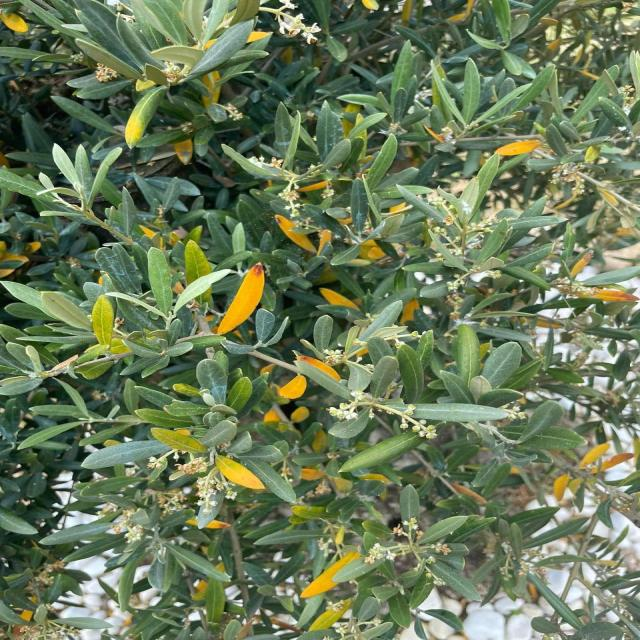Peacock Eye: (216, 262, 265, 334), (301, 552, 360, 598), (125, 86, 167, 148), (216, 456, 265, 490), (275, 214, 316, 254), (151, 428, 207, 454), (92, 295, 115, 346), (494, 140, 542, 156), (578, 290, 639, 302), (278, 376, 306, 399), (0, 13, 28, 32)
